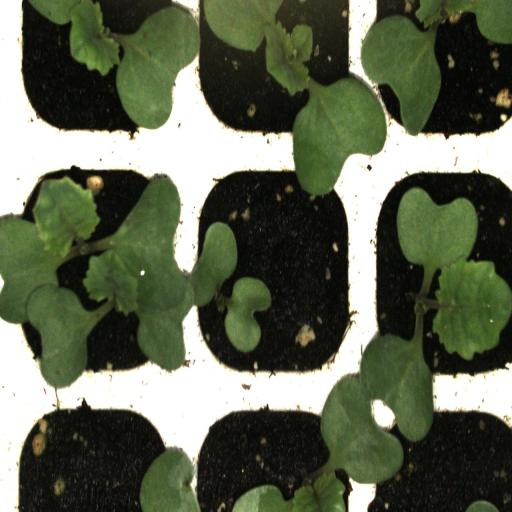Folha: (232, 329, 434, 512), (139, 448, 201, 512)
Germinacao: (186, 156, 364, 394), (5, 157, 184, 393), (362, 155, 512, 399), (6, 0, 184, 154), (184, 0, 360, 155)
